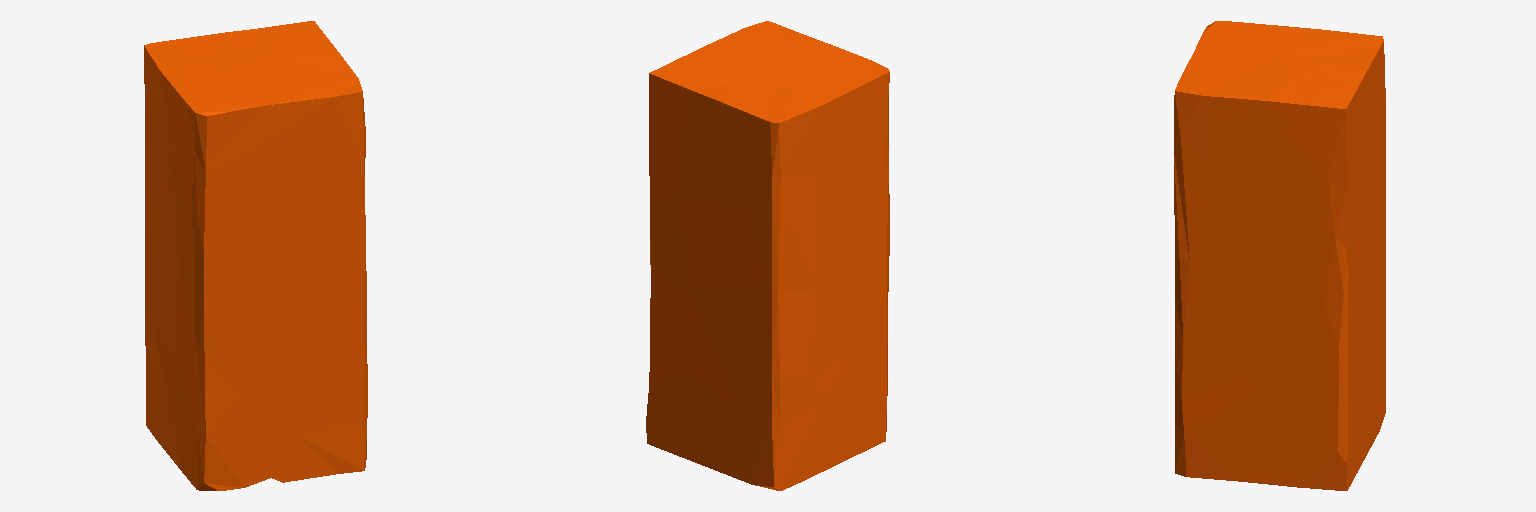
The robot description file, URDF, robot "036_wood_block":
<?xml version="1.0" ?>
<robot name="036_wood_block">
   <material name="obj_color">
      <color rgba="1.0 0.423529411765 0.0392156862745 1.0"/>
   </material>
   <link name="top">
      <inertial>
         <origin rpy="0.00394903366172646 0.0126958296318978 0.01276209946446447" xyz="-0.001798431280030746 0.002151231137176435 -0.01737438008801297"/>
         <mass value="3.088309253903602"/>
         <inertia ixx="0.01270471494540172" ixy="2.283572290971271e-05" ixz="6.726492109744526e-05" iyy="0.01275253901604192" iyz="3.751524306509132e-05" izz="0.003949708796645104"/>
      </inertial>
      <visual>
         <origin rpy="0 0 0" xyz="0 0 0"/>
         <geometry>
            <mesh filename="top_watertight_tiny.stl" scale="1 1 1"/>
         </geometry>
         <material name="obj_color"/>
      </visual>
      <collision>
         <origin rpy="0 0 0" xyz="0 0 0"/>
         <geometry>
            <mesh filename="top_watertight_tiny.obj" scale="1 1 1"/>
         </geometry>
      </collision>
   </link>
   <link name="bottom">
      <inertial>
         <origin rpy="1.633333333199431e-08 1.633333333199431e-08 1.633333333362855e-08" xyz="0.3464080000000008 0.3464080000000008 0.3464080000000008"/>
         <mass value="0.0009800000000000017"/>
         <inertia ixx="1.633333333253906e-08" ixy="5.447480642029219e-19" ixz="5.447480642029219e-19" iyy="1.633333333253906e-08" iyz="5.447480642029219e-19" izz="1.633333333253906e-08"/>
      </inertial>
      <visual>
         <origin rpy="0 0 0" xyz="0 0 0"/>
         <geometry>
            <mesh filename="bottom_watertight_tiny.stl" scale="1 1 1"/>
         </geometry>
         <material name="obj_color"/>
      </visual>
   </link>
   <link name="world"/>
   <joint name="world_to_base" type="fixed">
      <origin xyz="0 0 0"/>
      <axis xyz="0 0 0"/>
      <parent link="world"/>
      <child link="bottom"/>
   </joint>
   <joint name="rotation" type="revolute">
      <origin xyz="0 0 0"/>
      <axis xyz="0 0 -1"/>
      <parent link="bottom"/>
      <child link="top"/>
      <dynamics damping="1.0" friction="1.0"/>
      <limit effort="0.1" velocity="0.1" lower="0" upper="0.001"/>
   </joint>
</robot>

--- Facts derived from the render (not from the file) ---
Views: 3 orthographic renders of the robot side by side, from view 1: azimuth 30°, elevation 25°; view 2: azimuth 150°, elevation 25°; view 3: azimuth 270°, elevation 25°.
Model 036_wood_block with 3 links and 2 joints (1 revolute, 1 fixed), rooted at world, posed all joints at 0.
Visible links, largest first — view 1: top; view 2: top; view 3: top.
Boxes of the visible links, bbox=[...] form: top: bbox=[144, 21, 367, 490]; top: bbox=[646, 21, 889, 490]; top: bbox=[1174, 21, 1385, 490].
Size in the robot's own frame: 0.1043 by 0.1034 by 0.2055 metres.
Meshes: 2 distinct files referenced, 1 mesh visuals loaded (1 binary STL); not drawn: 1 (reference not matched to a file when rendering).
